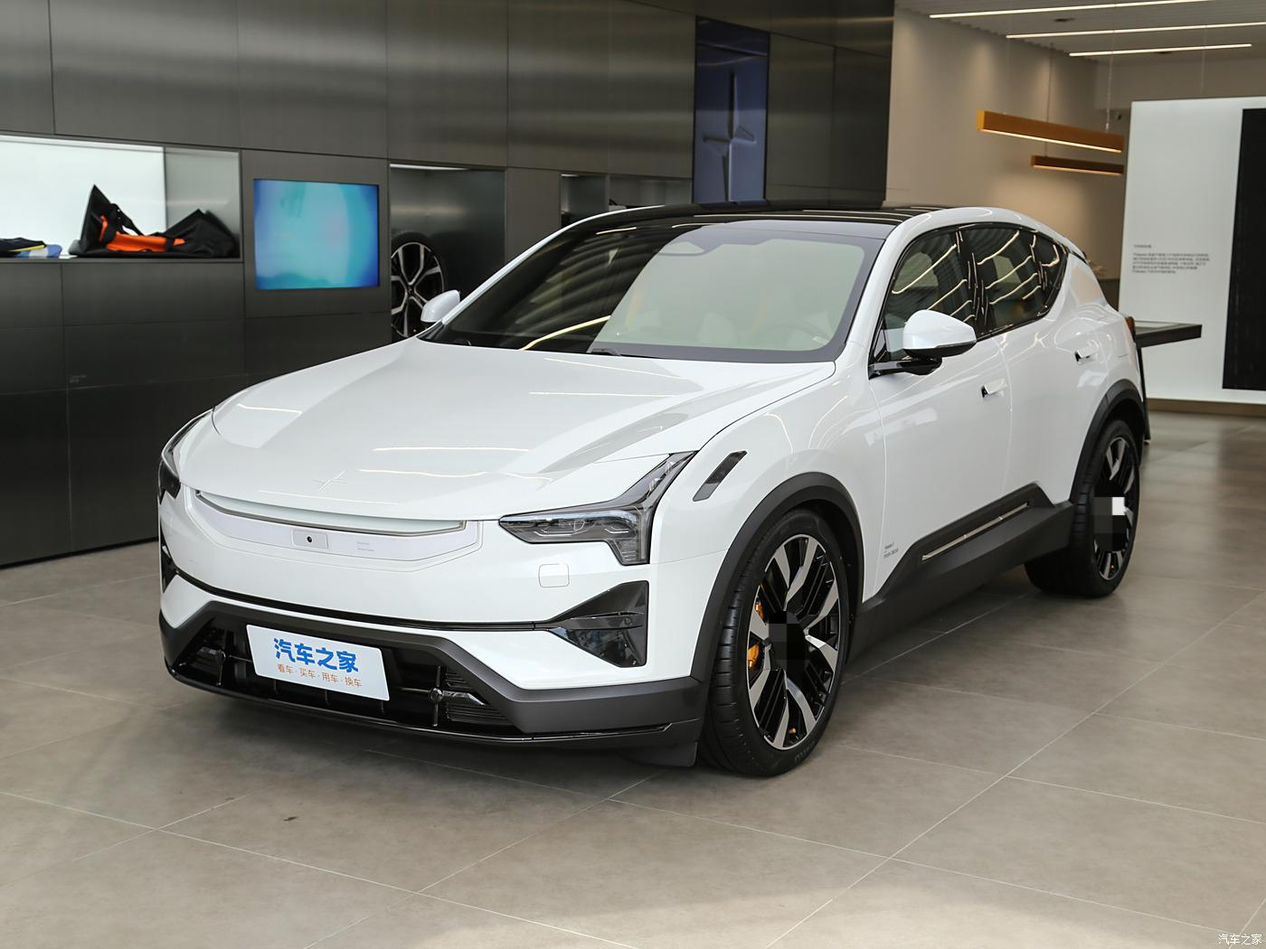Polestar: (314, 471, 347, 491)
